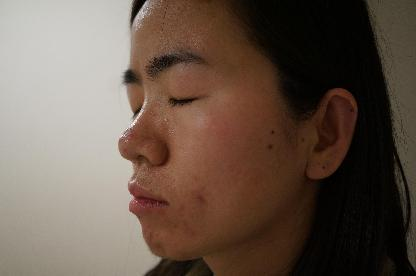acne scar: (192, 191, 211, 208)
